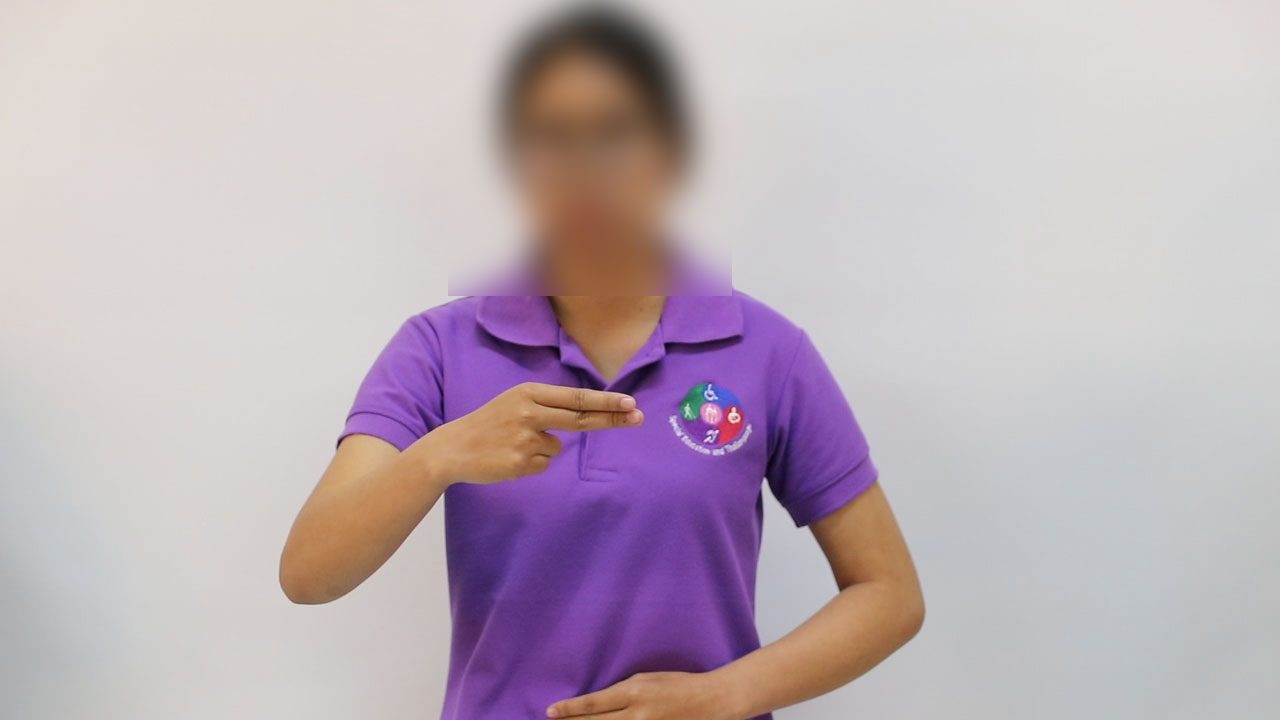hor: (427, 365, 659, 497)
